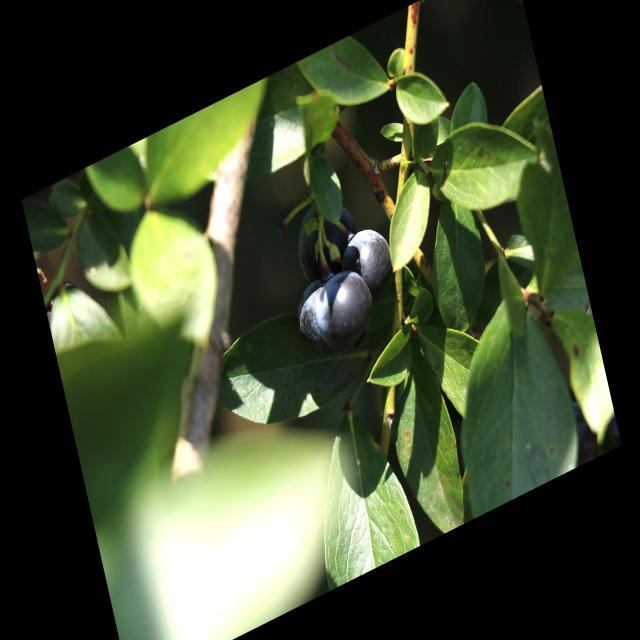blueberry: (288, 191, 362, 287), (309, 260, 379, 357), (338, 217, 399, 305), (289, 274, 337, 358)
